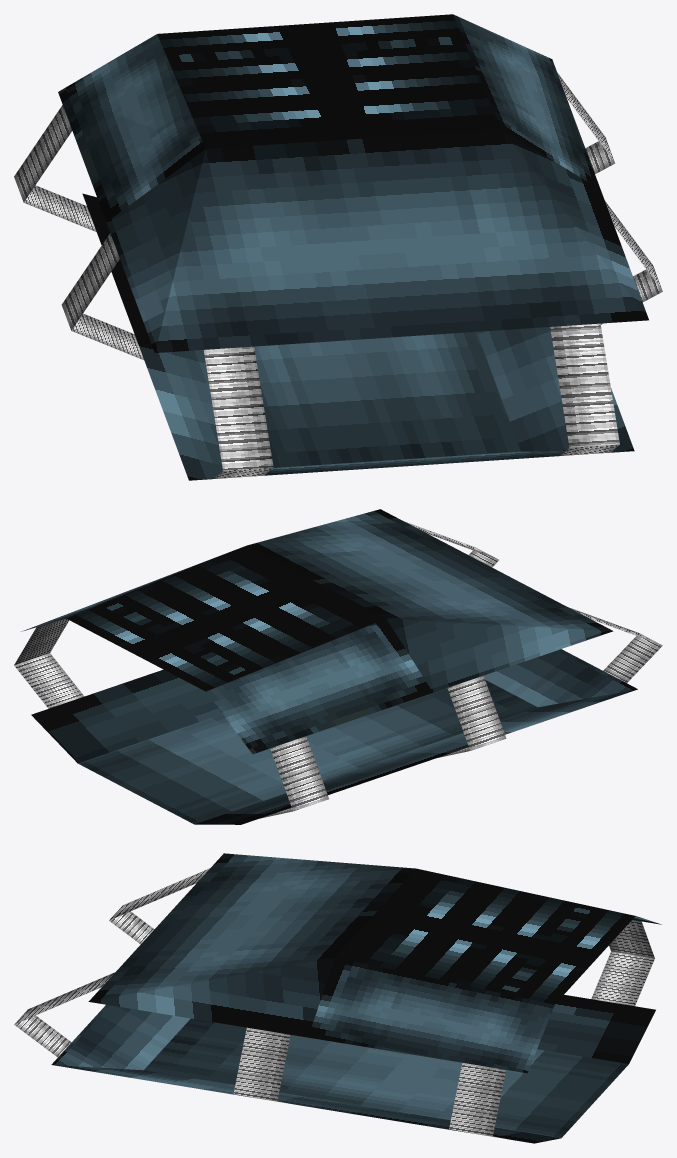
Rendered from primary_360.glb.
3 views of the same model, one above another, from view 1: azimuth 30°, elevation 25°; view 2: azimuth 150°, elevation 25°; view 3: azimuth 270°, elevation 25° (orthographic). The views are drawn at different scales.
Parts seen in each view (by area): view 1: Object; view 2: Object; view 3: Object.
Part boxes in pixels (x1=…): Object: x1=14, y1=14, x2=662, y2=480; Object: x1=14, y1=509, x2=662, y2=824; Object: x1=14, y1=853, x2=661, y2=1143.
Bounding box in the file's own units: 0.6505 × 0.2001 × 0.7718.
3 materials, 3 textured.
